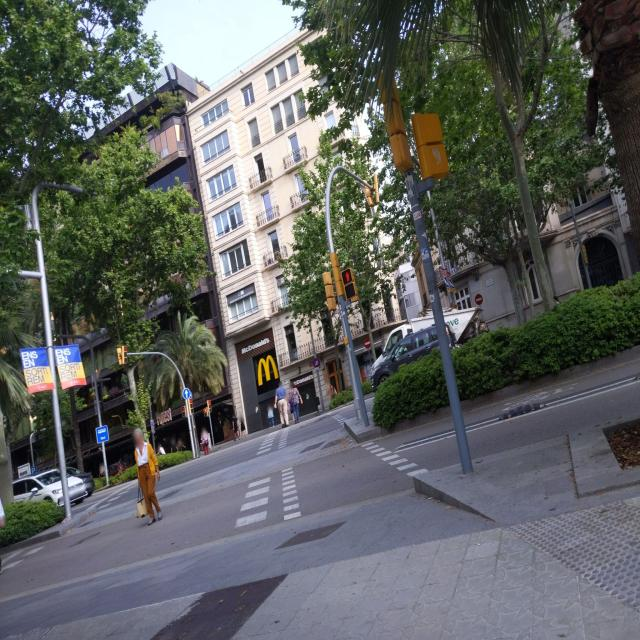car: (365, 308, 479, 394), (12, 468, 94, 509), (12, 476, 48, 503)
